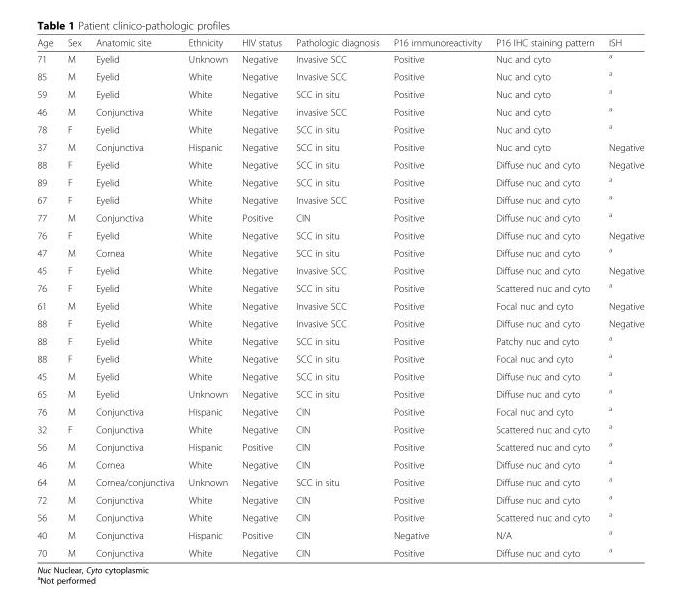table: (36, 36, 643, 558)
table column: (488, 36, 600, 558), (385, 36, 488, 558), (288, 36, 385, 558), (87, 36, 180, 558), (180, 36, 234, 558), (234, 36, 288, 558), (600, 36, 643, 558), (59, 36, 87, 558), (36, 36, 59, 558)
table column header: (36, 36, 643, 49)
table row: (36, 119, 643, 138), (36, 207, 643, 226), (36, 66, 643, 84), (36, 101, 643, 119), (36, 172, 643, 190), (36, 243, 643, 261), (36, 278, 643, 296), (36, 296, 643, 314), (36, 348, 643, 366), (36, 366, 643, 384), (36, 401, 643, 419), (36, 419, 643, 437), (36, 454, 643, 472), (36, 472, 643, 490), (36, 507, 643, 525), (36, 49, 643, 66), (36, 84, 643, 101), (36, 138, 643, 155), (36, 155, 643, 172), (36, 190, 643, 207), (36, 226, 643, 243), (36, 261, 643, 278), (36, 314, 643, 331), (36, 331, 643, 348), (36, 384, 643, 401), (36, 437, 643, 454), (36, 490, 643, 507), (36, 525, 643, 542), (36, 542, 643, 558), (36, 36, 643, 49)
